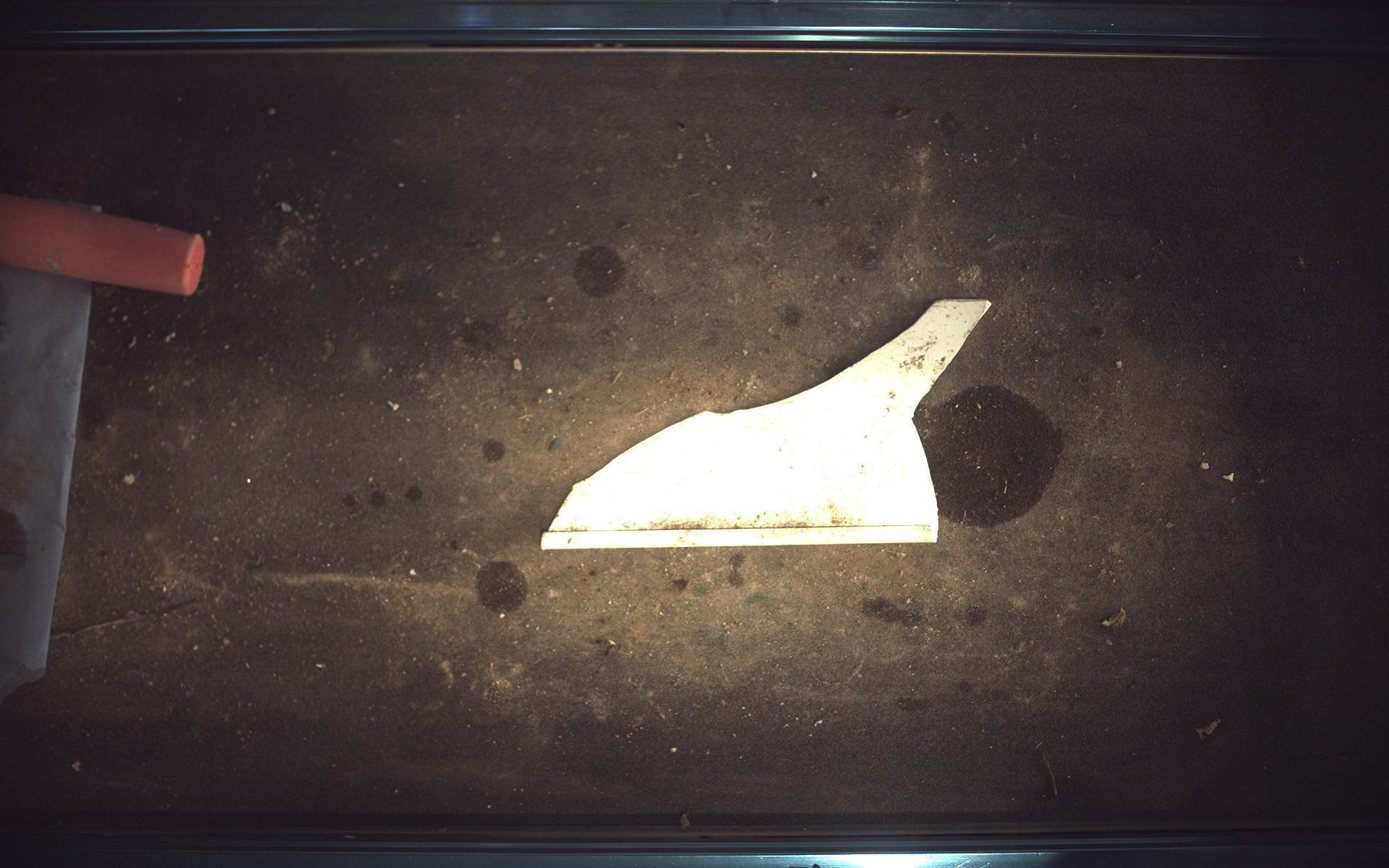plastic: (542, 299, 992, 550), (1, 193, 204, 295)
